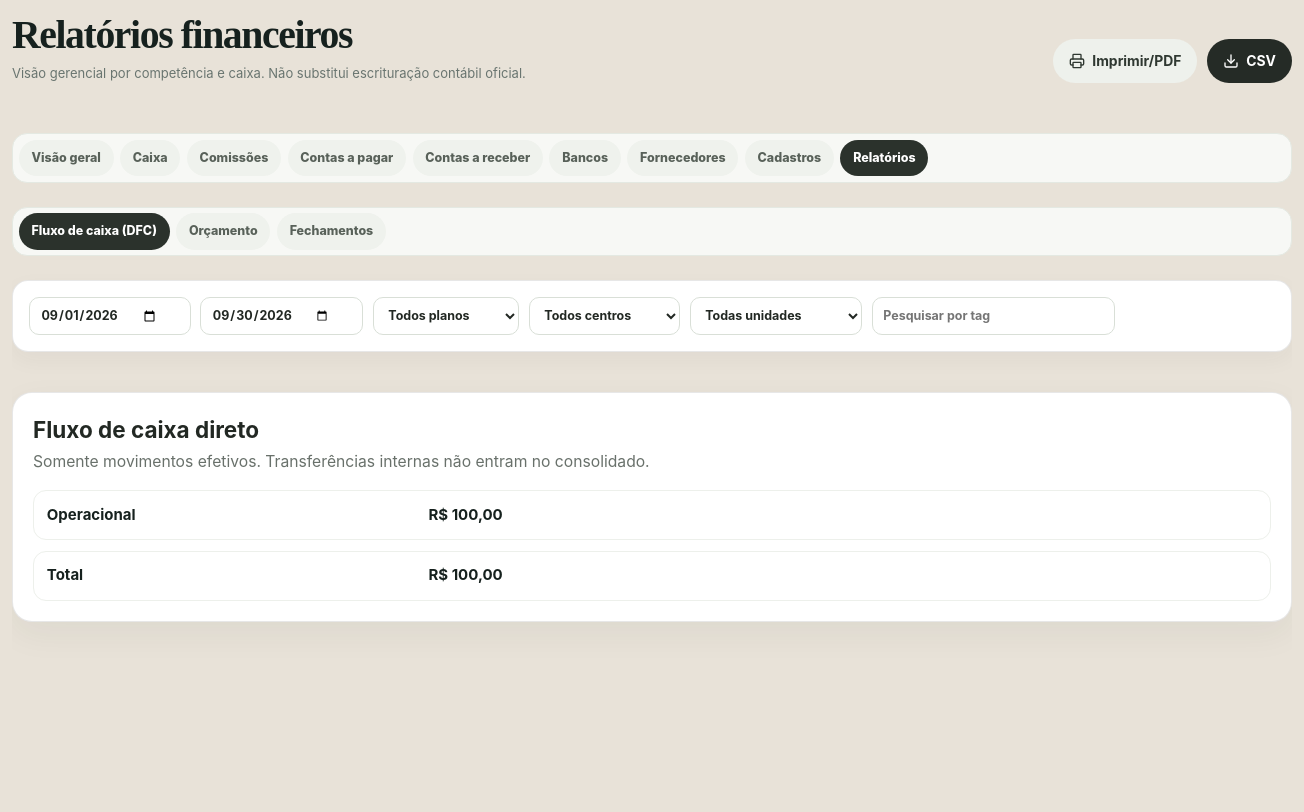
Scenario: manager commissions › opens the tag list and filters DFC facts by one or more tags
Focus the dropdown labelled "Pesquisar por tag" at (994,316), box [872,297,1115,335]
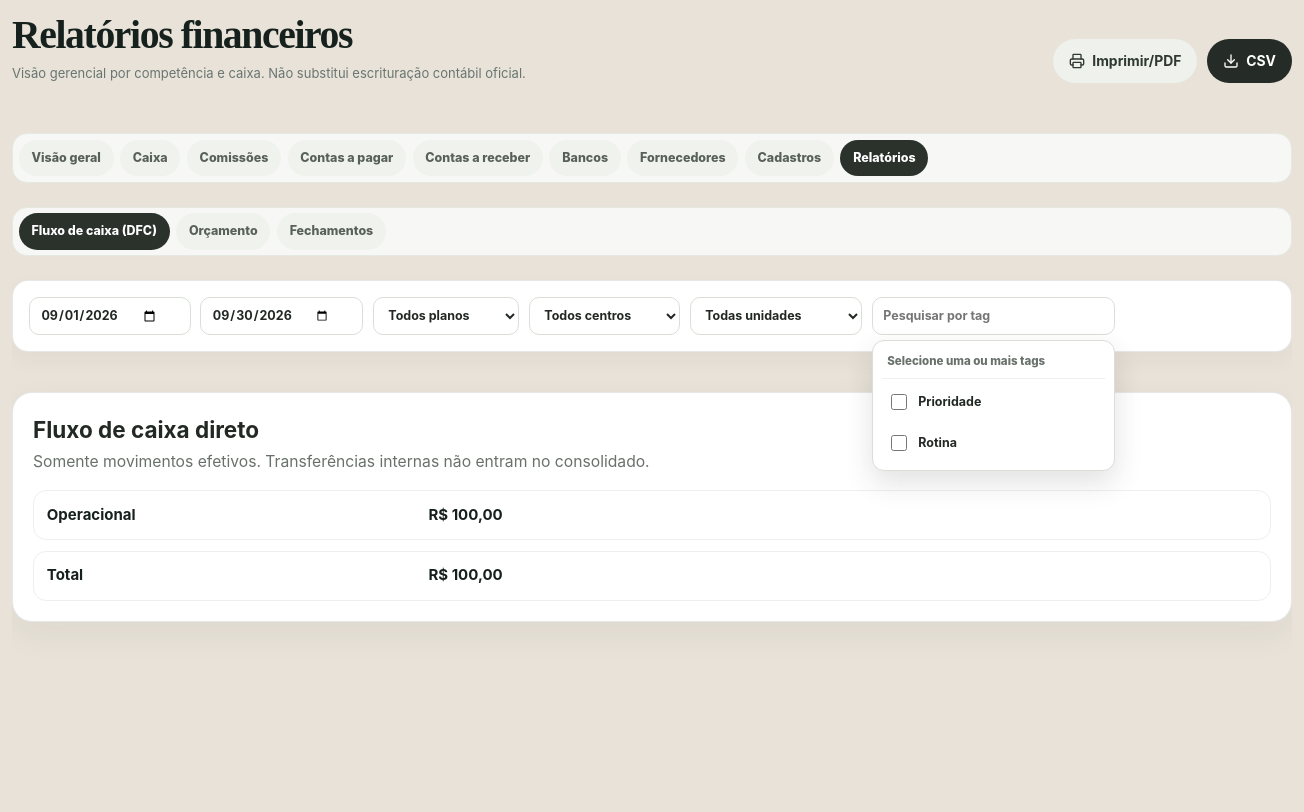
Now the list named "Tags disponíveis" is shown, box [872,340,1115,471]
Click the checkbox labelled "Prioridade".
click(899, 402)  # box [891,394,907,410]
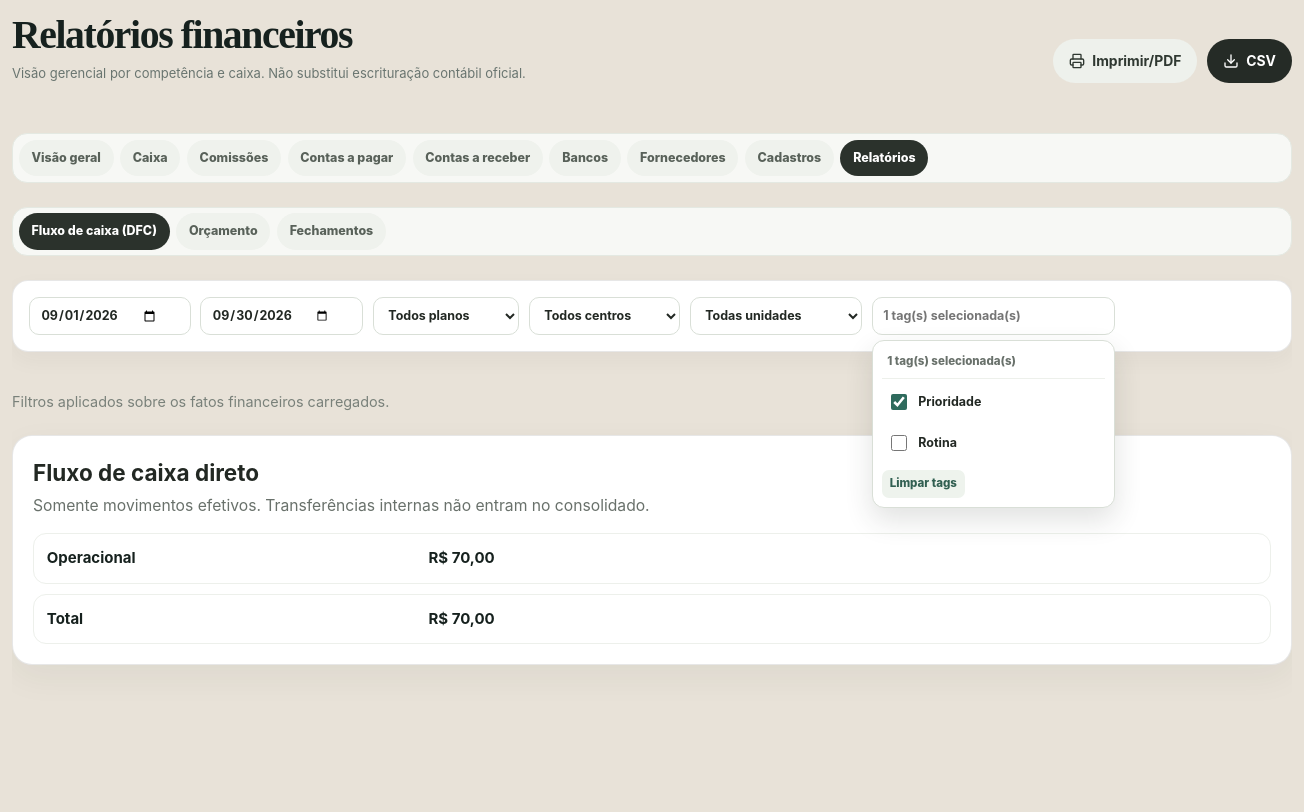
Now the text "R$ 100,00" is gone
Click the checkbox labelled "Rotina".
click(899, 443)  # box [891,435,907,451]
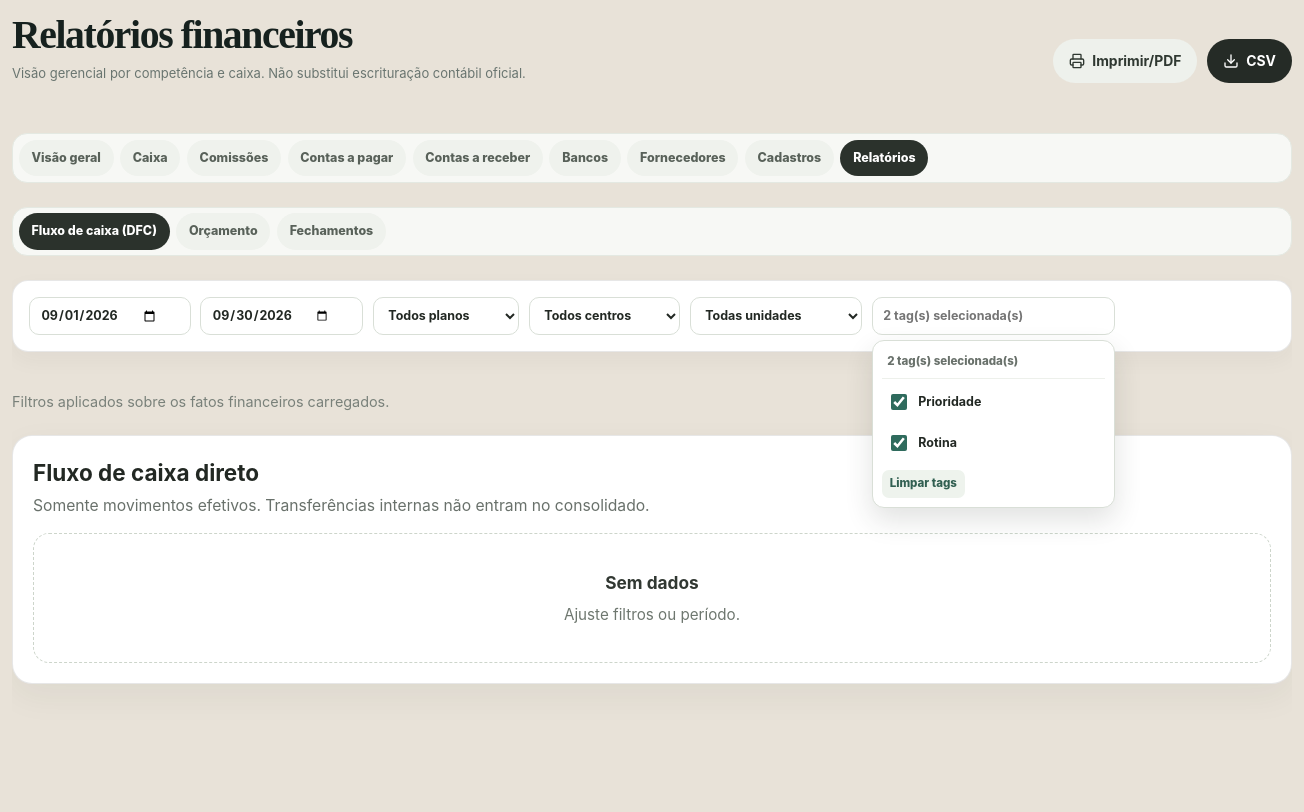
Now the text "R$ 70,00" is gone
